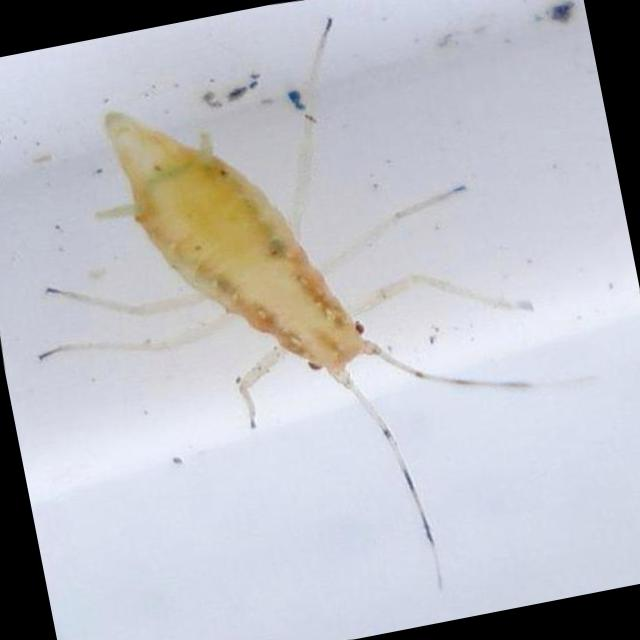aphid: (0, 0, 542, 539)
